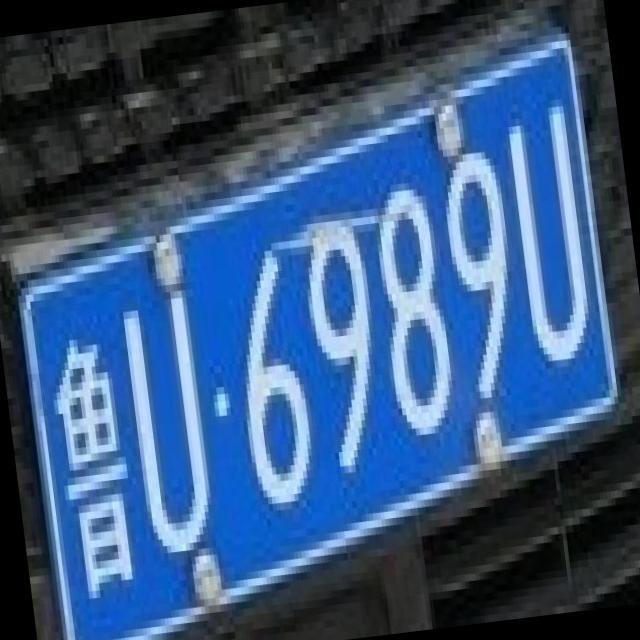6: (208, 218, 322, 508)
8: (354, 165, 466, 439)
9: (420, 120, 530, 402)
P: (279, 188, 396, 470)
U: (99, 267, 223, 550), (488, 83, 602, 364)
